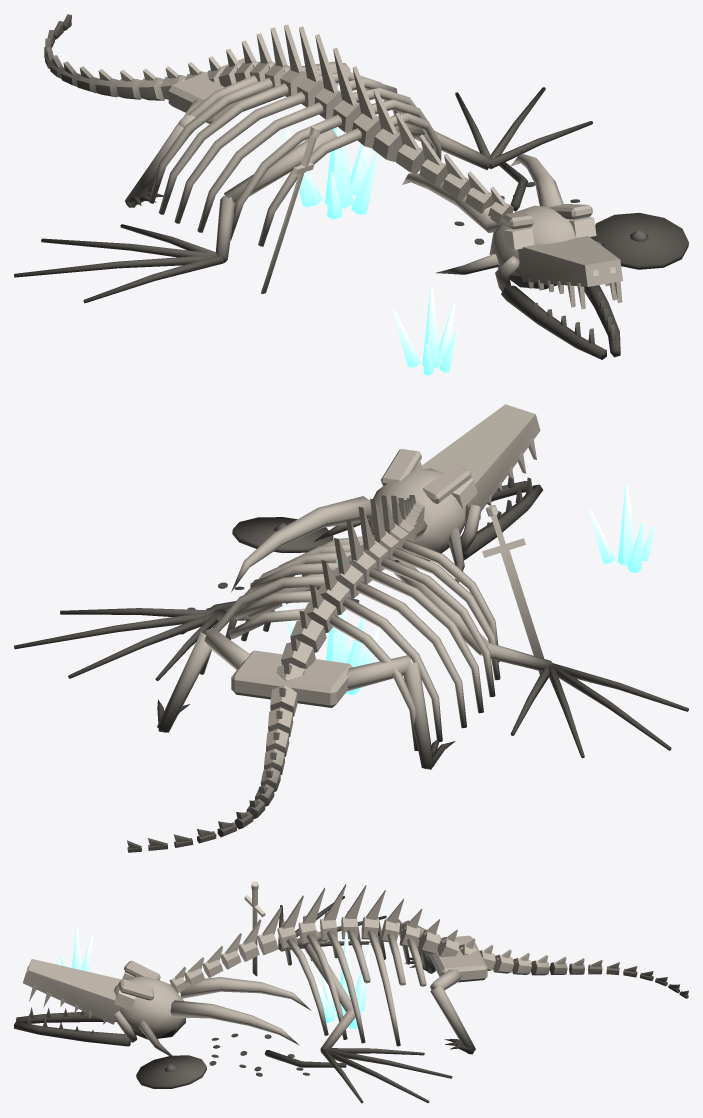
Rendered from SM_VKI_Prop_POI_WyrmBones.fbx.
3 renders of one model, top to bottom at view 1: azimuth 30°, elevation 25°; view 2: azimuth 150°, elevation 25°; view 3: azimuth 270°, elevation 25°, orthographic. The views are drawn at different scales.
Visible parts, largest first — view 1: SM_VKI_Prop_POI_WyrmBones.001; view 2: SM_VKI_Prop_POI_WyrmBones.001; view 3: SM_VKI_Prop_POI_WyrmBones.001.
Boxes of the visible parts, bbox=[...] form: SM_VKI_Prop_POI_WyrmBones.001: bbox=[14, 14, 688, 375]; SM_VKI_Prop_POI_WyrmBones.001: bbox=[14, 404, 688, 852]; SM_VKI_Prop_POI_WyrmBones.001: bbox=[14, 881, 688, 1103].
Size of the model in its own units: 4.1 by 1.23 by 5.69.
